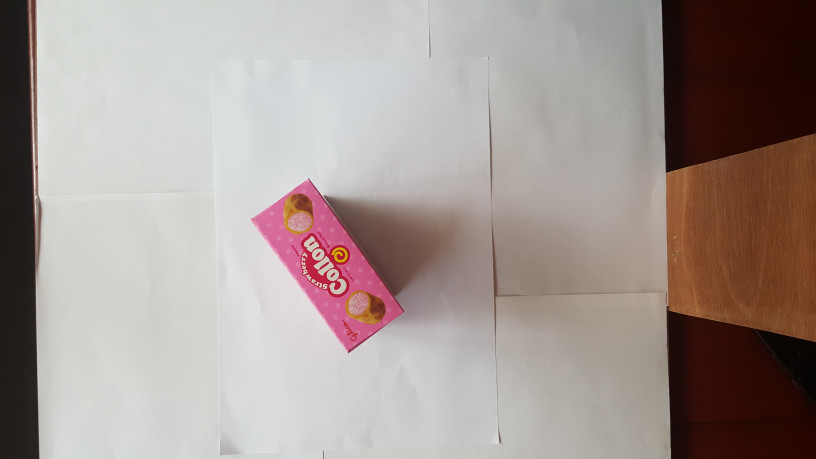collon-strawberry: (249, 177, 409, 355)
